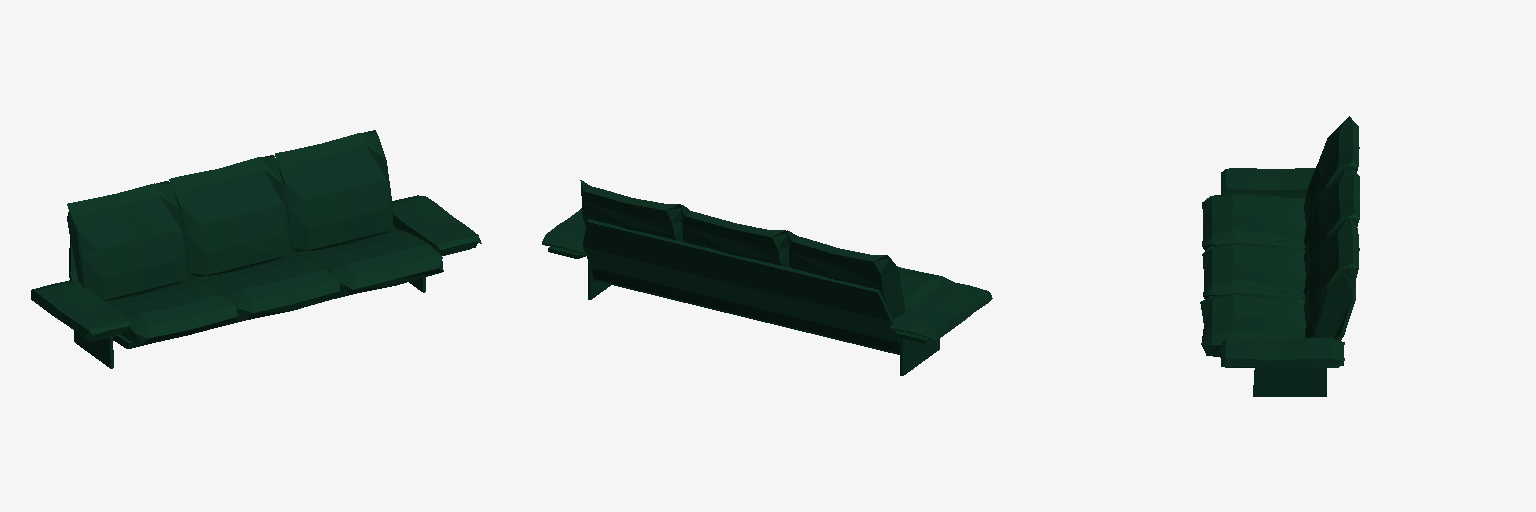
The model's file is sofa3I.obj.
The picture shows the model from 3 angles: view 1: azimuth 30°, elevation 25°; view 2: azimuth 150°, elevation 25°; view 3: azimuth 270°, elevation 25°; orthographic projection.
Parts seen in each view (by area): view 1: LR_couch_1_1; view 2: LR_couch_1_1; view 3: LR_couch_1_1.
Boxes of the visible parts, x1,y1,x2,y2 form: LR_couch_1_1: [31, 130, 481, 368]; LR_couch_1_1: [542, 180, 992, 375]; LR_couch_1_1: [1200, 116, 1359, 396].
Bounding box in the file's own units: 11.19 × 3.49 × 3.92.